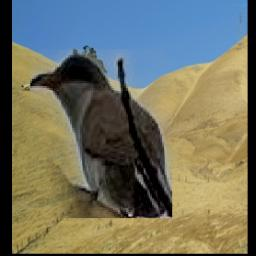Cuckoo: (30, 50, 172, 219)
